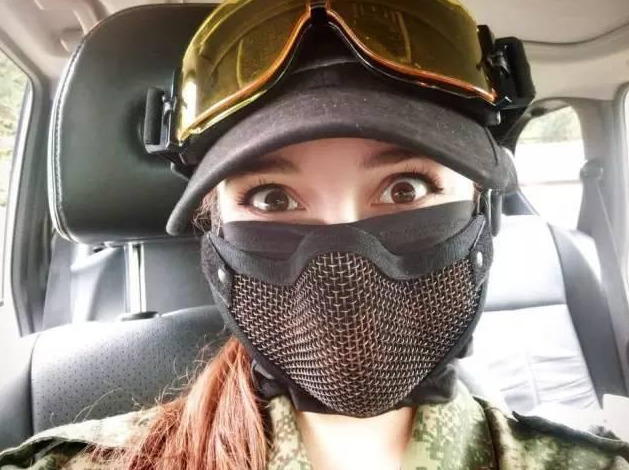face_mask: (214, 104, 481, 408)
